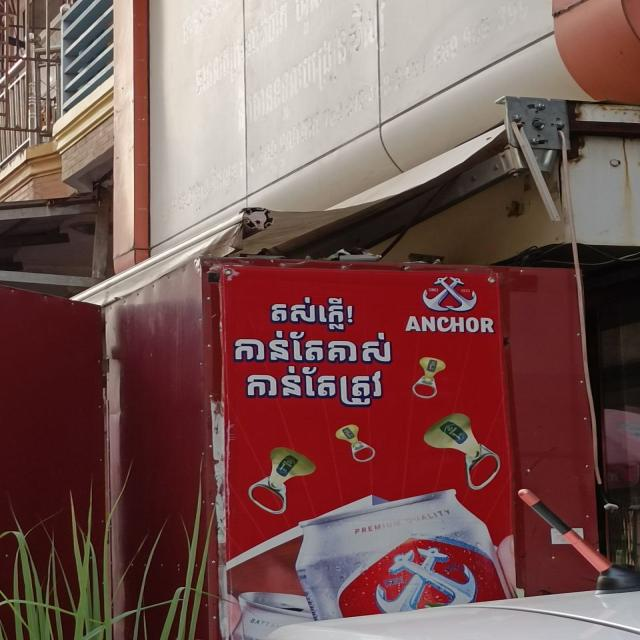Yolov11_80vkh: (229, 328, 399, 370), (240, 364, 390, 407), (263, 294, 361, 334)
